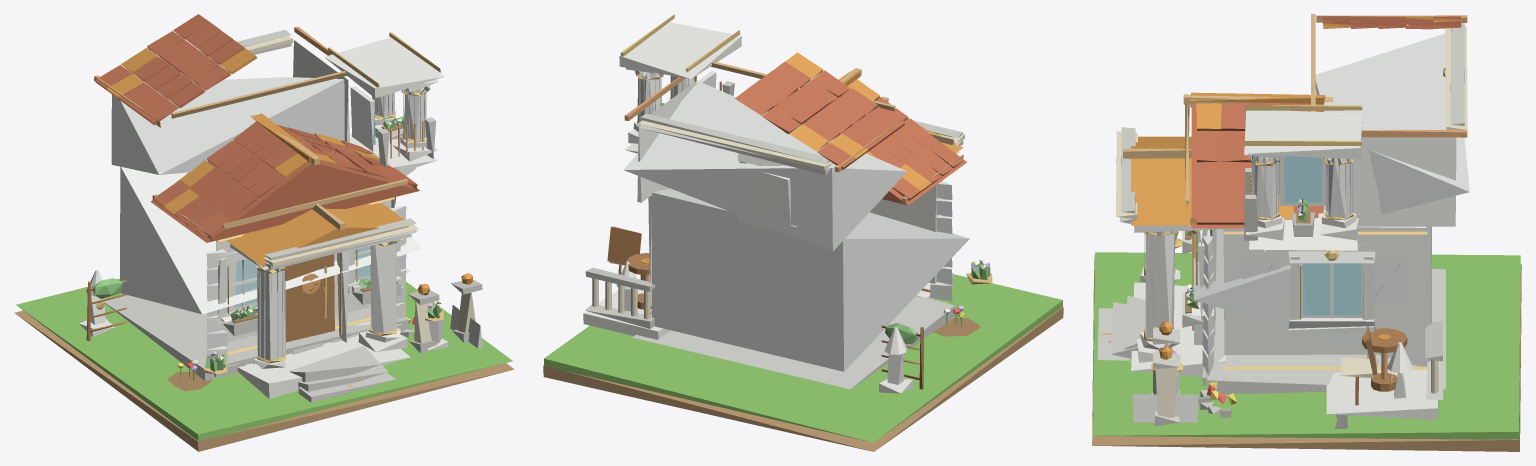
File: villa_l03_active_LOD2.glb
3 renders of one model, left to right at view 1: azimuth 30°, elevation 25°; view 2: azimuth 150°, elevation 25°; view 3: azimuth 270°, elevation 25°, orthographic. The views are drawn at different scales.
Parts seen in each view (by area): view 1: villa_grass_tile_villa_l03_active_LOD2_tmp, villa_l03_active_rear_upper_shell_villa_l03_active_LOD2_tmp, villa_l01_active_v2_marble_core_villa_l03_active_LOD2_tmp, villa_l03_active_front_slope_gable_roof_villa_l03_active_LOD, villa_l01_active_v2_base_stone_block_low_medium_foundation_v, villa_earth_tile_villa_l03_active_LOD2_tmp, villa_l03_active_wide_portico_roof_gable_roof_villa_l03_acti, villa_l03_active_balcony_flat_roof_villa_l03_active_LOD2_tmp, villa_l01_active_v2_entry_door_villa_l03_active_LOD2_tmp, villa_l03_active_wide_porch_villa_l03_active_LOD2_tmp, villa_l03_active_wide_column_-1_shaft_villa_l03_active_LOD2_, villa_l03_active_wide_column_1_shaft_villa_l03_active_LOD2_t (+21 smaller); view 2: villa_l01_active_v2_marble_core_villa_l03_active_LOD2_tmp, villa_grass_tile_villa_l03_active_LOD2_tmp, villa_l03_active_rear_upper_shell_villa_l03_active_LOD2_tmp, villa_l01_active_v2_base_stone_block_low_medium_foundation_v, villa_earth_tile_villa_l03_active_LOD2_tmp, villa_l03_active_balcony_flat_roof_villa_l03_active_LOD2_tmp, villa_l03_active_rear_upper_window_window_frame_villa_l03_ac, villa_l01_active_v2_front_marble_cladding_villa_l03_active_L, villa_l03_active_rear_upper_cornice_course_2_villa_l03_activ, villa_l03_active_rear_upper_right_cladding_villa_l03_active_, villa_l03_active_terrace_deck_villa_l03_active_LOD2_tmp, villa_l03_active_rear_upper_cornice_course_1_villa_l03_activ (+11 smaller); view 3: villa_grass_tile_villa_l03_active_LOD2_tmp, villa_l03_active_rear_upper_shell_villa_l03_active_LOD2_tmp, villa_l01_active_v2_right_marble_cladding_villa_l03_active_L, villa_l01_active_v2_base_stone_block_low_medium_foundation_v, villa_l01_active_v2_marble_core_villa_l03_active_LOD2_tmp, villa_l03_active_rear_upper_right_cladding_villa_l03_active_, villa_earth_tile_villa_l03_active_LOD2_tmp, villa_l03_active_balcony_flat_roof_villa_l03_active_LOD2_tmp, villa_l03_active_wide_portico_roof_gable_roof_villa_l03_acti, villa_l03_active_terrace_deck_villa_l03_active_LOD2_tmp, villa_l01_active_v2_side_window_glass_villa_l03_active_LOD2_, villa_l03_active_wide_column_1_shaft_villa_l03_active_LOD2_t (+47 smaller).
Part boxes in pixels (x1,y1,x2,y2): villa_grass_tile_villa_l03_active_LOD2_tmp: (16,278,512,440); villa_l03_active_rear_upper_shell_villa_l03_active_LOD2_tmp: (111,76,344,174); villa_l01_active_v2_marble_core_villa_l03_active_LOD2_tmp: (120,166,422,314); villa_l03_active_front_slope_gable_roof_villa_l03_active_LOD: (150,140,420,242); villa_l01_active_v2_base_stone_block_low_medium_foundation_v: (104,295,408,380); villa_earth_tile_villa_l03_active_LOD2_tmp: (14,310,514,451); villa_l03_active_wide_portico_roof_gable_roof_villa_l03_acti: (226,203,404,266); villa_l03_active_balcony_flat_roof_villa_l03_active_LOD2_tmp: (324,37,444,98); villa_l01_active_v2_entry_door_villa_l03_active_LOD2_tmp: (285,254,334,342); villa_l03_active_wide_porch_villa_l03_active_LOD2_tmp: (237,321,410,398); villa_l03_active_wide_column_-1_shaft_villa_l03_active_LOD2_: (257,269,285,363); villa_l03_active_wide_column_1_shaft_villa_l03_active_LOD2_t: (371,243,396,335); villa_l01_active_v2_marble_core_villa_l03_active_LOD2_tmp: (651,188,969,371); villa_grass_tile_villa_l03_active_LOD2_tmp: (544,274,1062,442); villa_l03_active_rear_upper_shell_villa_l03_active_LOD2_tmp: (623,81,906,251); villa_l01_active_v2_base_stone_block_low_medium_foundation_v: (632,296,954,389); villa_earth_tile_villa_l03_active_LOD2_tmp: (543,307,1063,451); villa_l03_active_balcony_flat_roof_villa_l03_active_LOD2_tmp: (619,22,741,78); villa_l03_active_rear_upper_window_window_frame_villa_l03_ac: (746,171,790,225); villa_l01_active_v2_front_marble_cladding_villa_l03_active_L: (870,185,936,283); villa_l03_active_rear_upper_cornice_course_2_villa_l03_activ: (640,113,829,163); villa_l03_active_rear_upper_right_cladding_villa_l03_active_: (637,81,696,202); villa_l03_active_terrace_deck_villa_l03_active_LOD2_tmp: (583,289,670,339); villa_l03_active_rear_upper_cornice_course_1_villa_l03_activ: (639,120,832,170); villa_grass_tile_villa_l03_active_LOD2_tmp: (1093,252,1520,439); villa_l03_active_rear_upper_shell_villa_l03_active_LOD2_tmp: (1315,33,1469,214); villa_l01_active_v2_right_marble_cladding_villa_l03_active_L: (1223,226,1427,354); villa_l01_active_v2_base_stone_block_low_medium_foundation_v: (1207,269,1445,394); villa_l01_active_v2_marble_core_villa_l03_active_LOD2_tmp: (1193,205,1431,366); villa_l03_active_rear_upper_right_cladding_villa_l03_active_: (1352,137,1456,226); villa_earth_tile_villa_l03_active_LOD2_tmp: (1092,261,1521,451); villa_l03_active_balcony_flat_roof_villa_l03_active_LOD2_tmp: (1244,110,1362,159); villa_l03_active_wide_portico_roof_gable_roof_villa_l03_acti: (1131,136,1191,225); villa_l03_active_terrace_deck_villa_l03_active_LOD2_tmp: (1326,369,1438,419); villa_l01_active_v2_side_window_glass_villa_l03_active_LOD2_: (1302,263,1361,315); villa_l03_active_wide_column_1_shaft_villa_l03_active_LOD2_t: (1145,231,1174,340).
Size of what is drawn, in the model's own units: 3.6 by 3.11 by 3.6.
